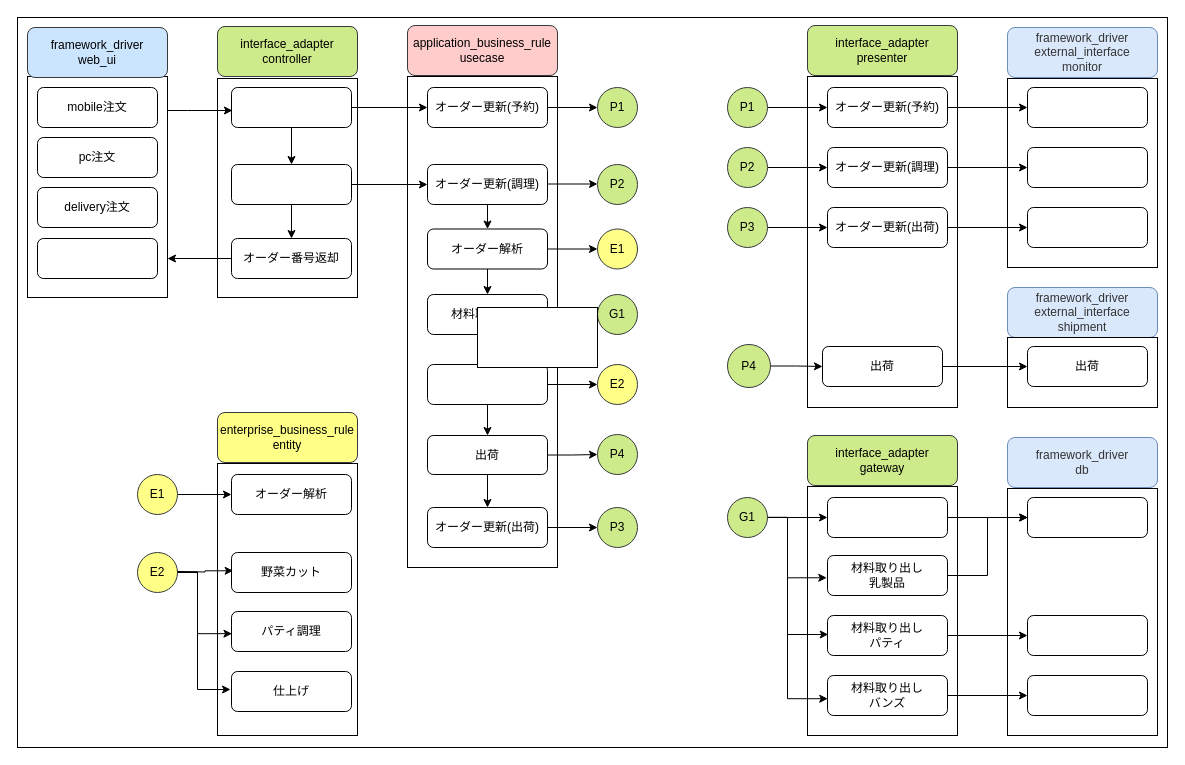
The diagram is 1185 pixels wide and 765 high, and some of its shapes have lost their labels. The centre of each missing label's shape, as x and y in pixels:
"register注文" goes at (97,258).
"オーダーモニター オーダー更新(予約)" goes at (1087,107).
"オーダーモニター オーダー更新(出荷)" goes at (1087,227).
"オーダーモニター オーダー更新(調理)" goes at (1087,167).
"オーダー受付" goes at (291,184).
"オーダー番号取得" goes at (291,107).
"冷凍庫 PostgreSQL" goes at (1087,635).
"冷蔵庫 MySQL" goes at (1087,517).
"材料取り出し 野菜" goes at (887,517).
"棚 MongoDB" goes at (1087,695).
"調理" goes at (487,384).
